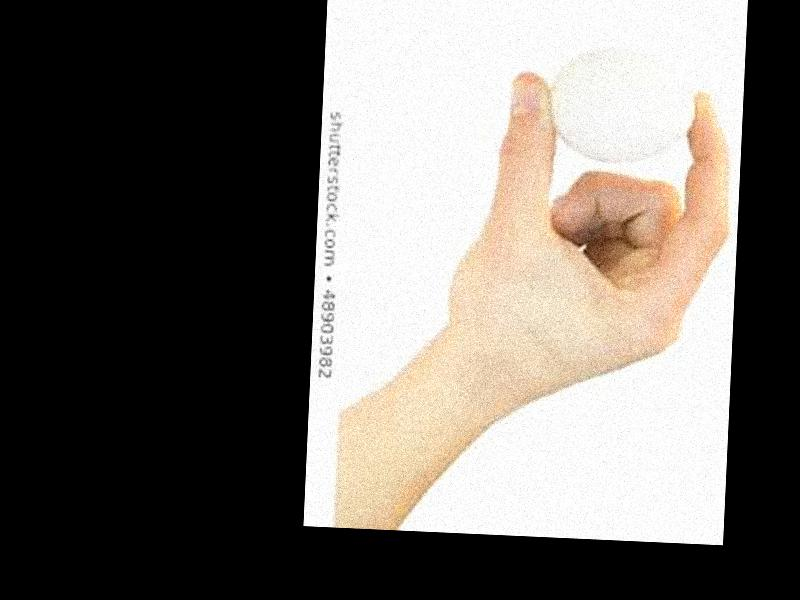Eggs: (545, 48, 696, 166)
